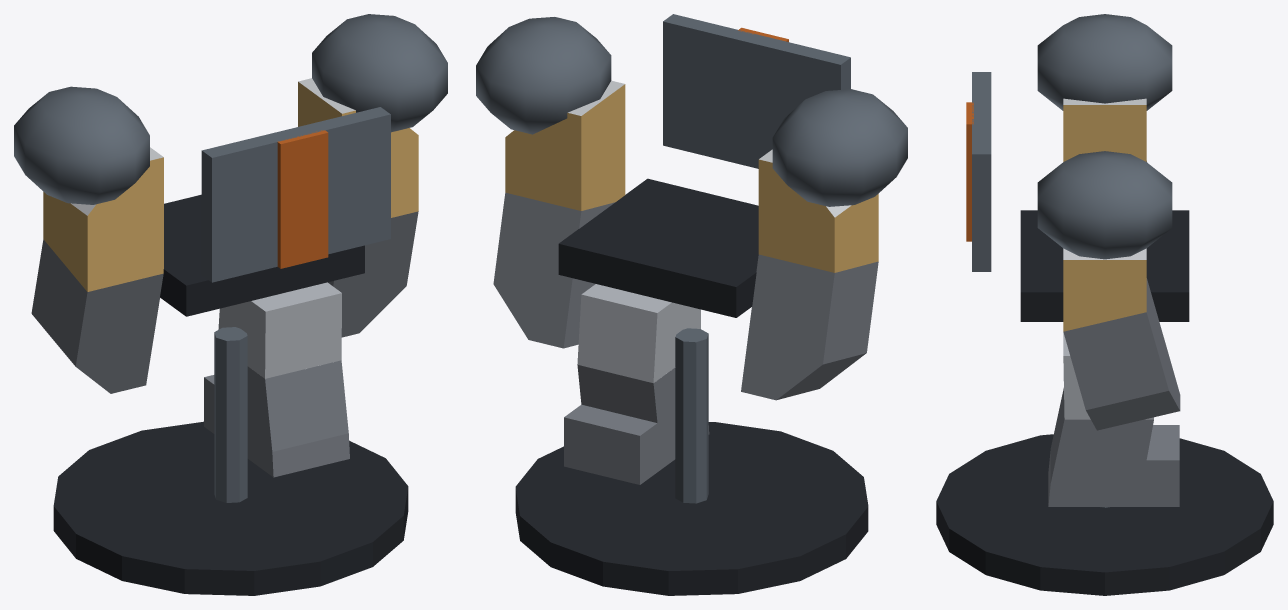
Rendered from armour-medium.glb.
3 views of the same model, side by side, from view 1: azimuth 30°, elevation 25°; view 2: azimuth 150°, elevation 25°; view 3: azimuth 270°, elevation 25° (orthographic). The views are drawn at different scales.
Visible parts, largest first — view 1: armour-medium; view 2: armour-medium; view 3: armour-medium.
Part boxes in pixels (<box>): armour-medium: <box>14,14,447,595</box>; armour-medium: <box>476,14,907,595</box>; armour-medium: <box>936,14,1273,595</box>.
Size of the model in its own units: 0.6902 by 0.74 by 0.52.
